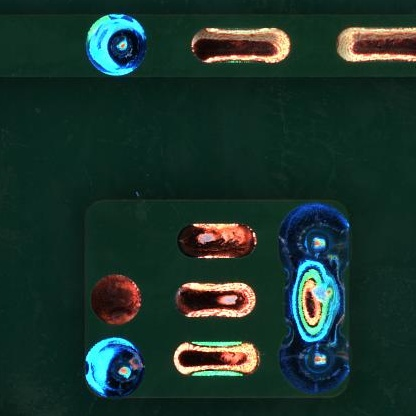spot: (280, 327, 352, 395), (278, 203, 352, 263), (85, 13, 146, 76), (84, 338, 142, 395)
